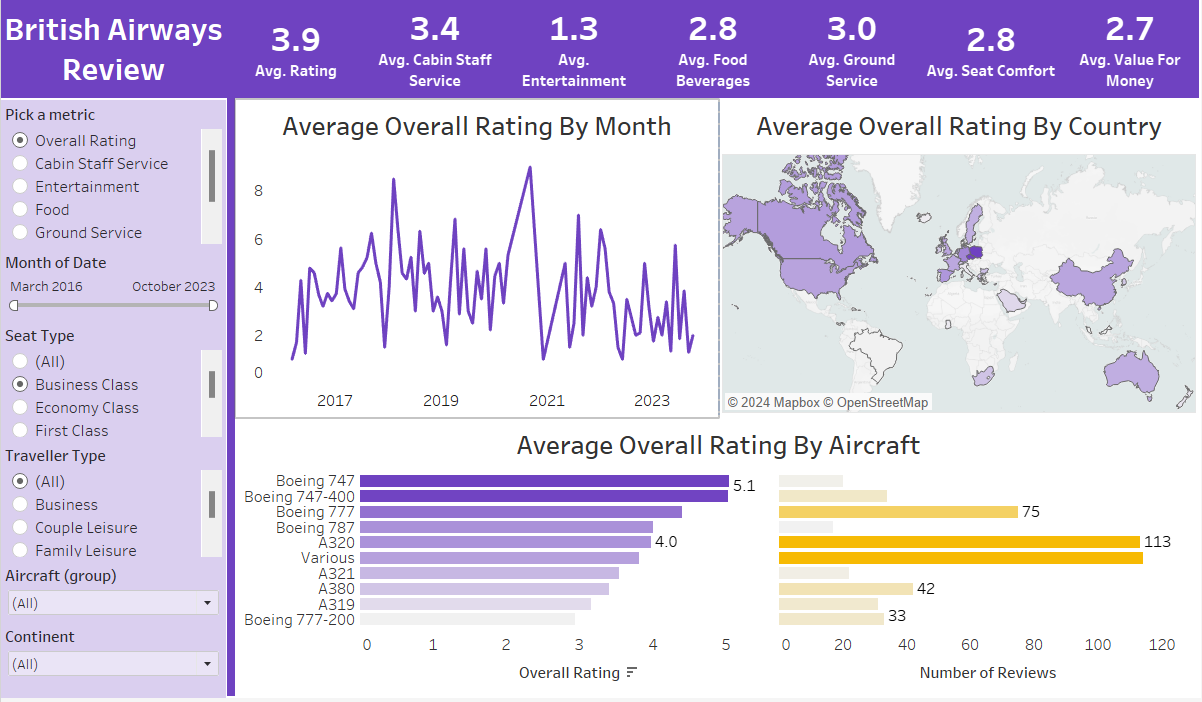

Layout of this report page (visuals, bound fields, positions):
{"tool":"tableau","page":{"name":"Dashboard 1","canvas":[1200,700],"ordinal":0},"visuals":[{"type":"text","box":[0,0,225,100]},{"type":"worksheet","title":"Summary","mark":"Automatic","box":[225,0,973,100]},{"type":"blank","box":[226,100,8,598]},{"type":"parameter","param":"[Parameters].[Parameter 1]","box":[0,102,225,148]},{"type":"worksheet","title":"Month","mark":"Automatic","rows":["Calculation_1213157192004177920"],"cols":["date"],"box":[235,102,482,317]},{"type":"worksheet","title":"Map","mark":"Multipolygon","box":[717,102,482,317]},{"type":"filter","title":"Map","param":"[federated.00fxezy1kae7h61a49g961d8gd50].[tmn:date:qk]","box":[0,250,225,73]},{"type":"filter","title":"Map","param":"[federated.00fxezy1kae7h61a49g961d8gd50].[none:seat_type:nk]","box":[0,323,225,120]},{"type":"worksheet","title":"Aircraft","mark":"Automatic","cols":["Calculation_1213157192004177920","ba_reviews.csv_B4369CD2B98B4565819D38FDC119DE84"],"box":[235,421,965,275]},{"type":"filter","title":"Map","param":"[federated.00fxezy1kae7h61a49g961d8gd50].[none:traveller_type:nk]","box":[0,443,225,120]},{"type":"filter","title":"Map","param":"[federated.00fxezy1kae7h61a49g961d8gd50].[Aircraft (group)]","box":[0,563,225,61]},{"type":"filter","title":"Map","param":"[federated.00fxezy1kae7h61a49g961d8gd50].[none:Continent:nk]","box":[0,624,225,61]}]}

Visuals, with their boxes in screenshot pixels (x1, y1, x2, y2), scaled from the page's 1200x700 canvas onto the 1202x702 screenshot:
text: l=0, t=0, r=225, b=100
"Summary" worksheet: l=225, t=0, r=1200, b=100
blank: l=226, t=100, r=234, b=700
parameter: l=0, t=102, r=225, b=251
"Month" worksheet: l=235, t=102, r=718, b=420
"Map" worksheet (Multipolygon marks): l=718, t=102, r=1201, b=420
"Map" filter: l=0, t=251, r=225, b=324
"Map" filter: l=0, t=324, r=225, b=444
"Aircraft" worksheet: l=235, t=422, r=1201, b=698
"Map" filter: l=0, t=444, r=225, b=565
"Map" filter: l=0, t=565, r=225, b=626
"Map" filter: l=0, t=626, r=225, b=687
